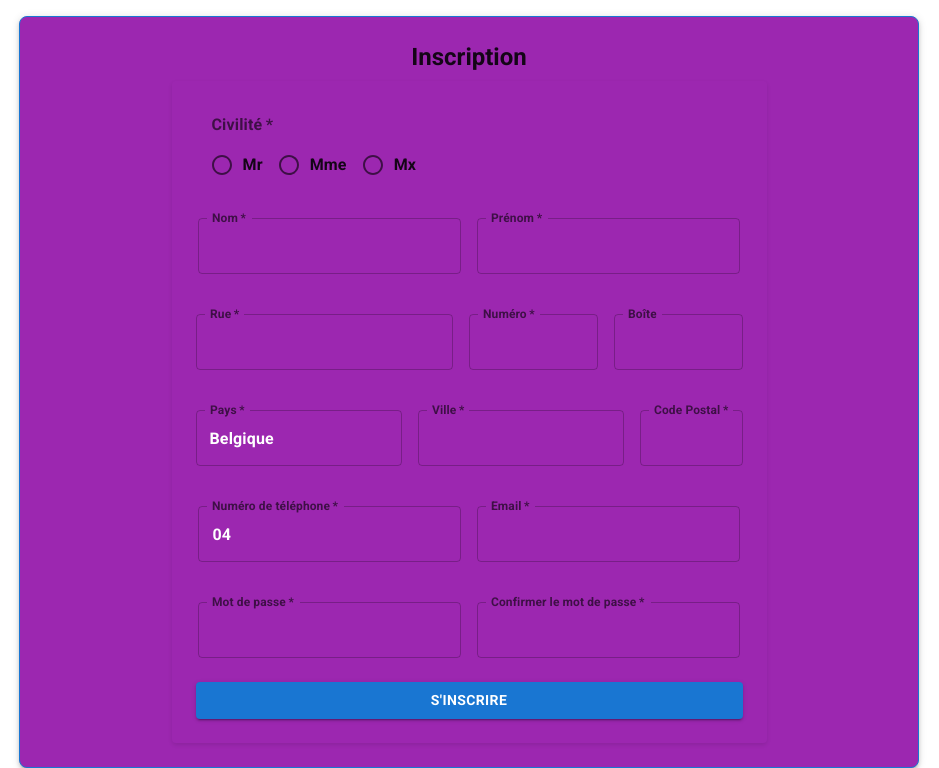
RegisterPage › shows error if phone number is invalid
The width and height of the screenshot is (939, 768).
Replace the text in the field labelled "Numéro de téléphone *" with "abc123" at (330, 534), box [198,506,461,562]
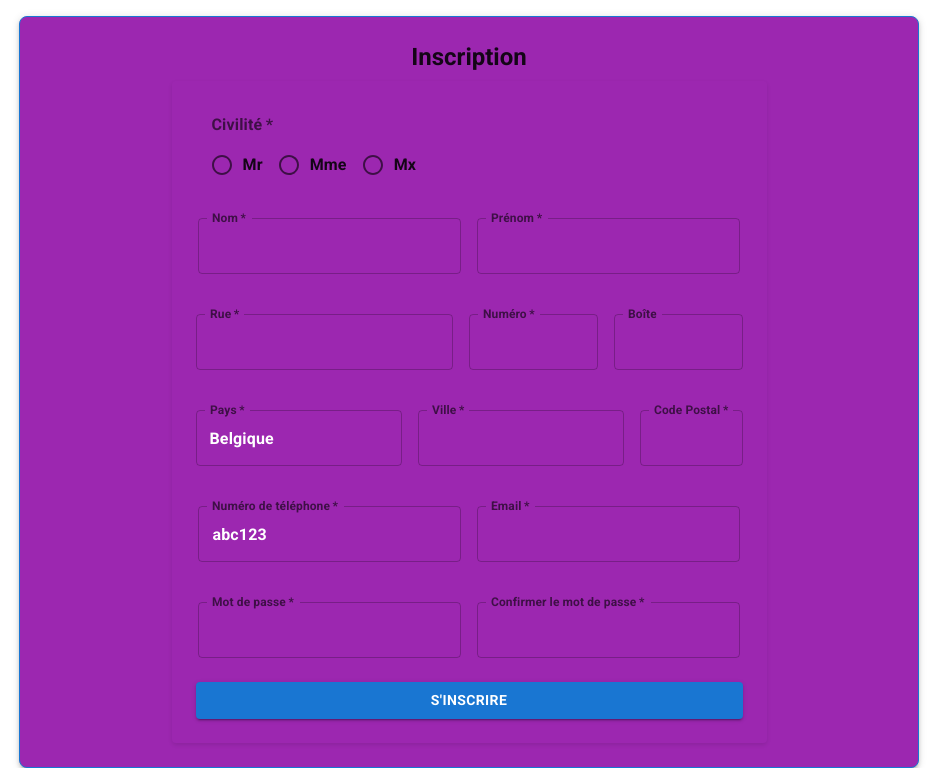
Submit the form from the button "S'inscrire", box [196,682,742,719]
(page scrolled)
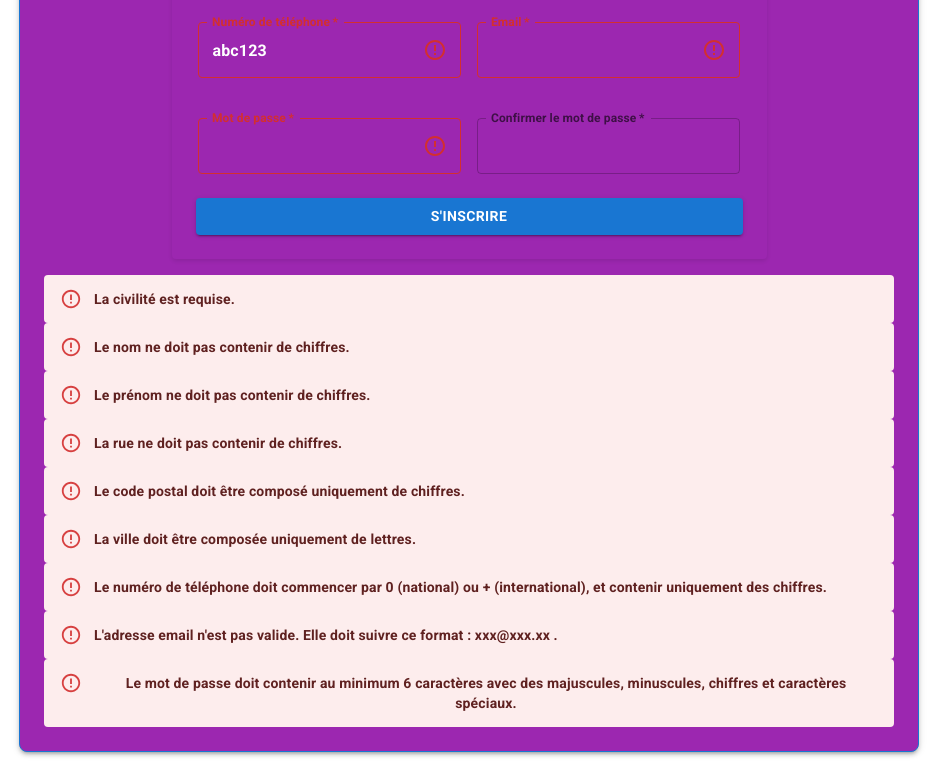
Check: the text "doit commencer par 0 (national) ou + (international)" is shown, box [94,579,827,595]
